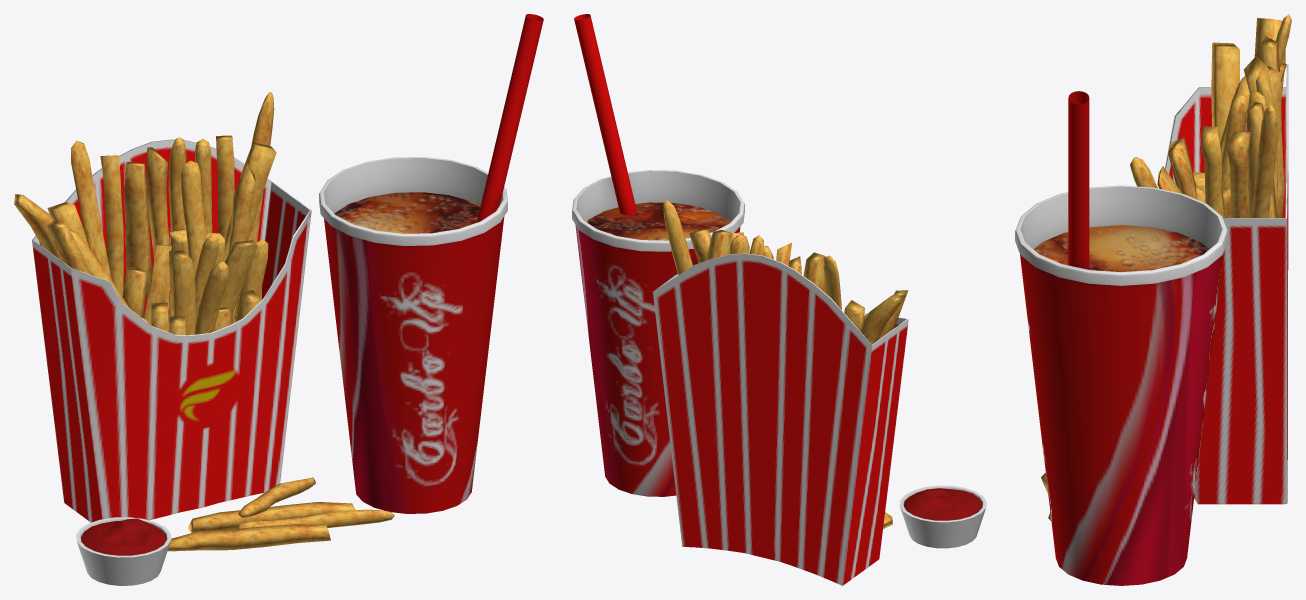
Rendered from french-fries---free-bef538.glb.
The picture shows the model from 3 angles, left to right: view 1: azimuth 30°, elevation 25°; view 2: azimuth 150°, elevation 25°; view 3: azimuth 270°, elevation 25°; orthographic projection. The views are drawn at different scales.
Visible parts, largest first — view 1: PropMesh; view 2: PropMesh; view 3: PropMesh.
Boxes of the visible parts, <box> form: PropMesh: <box>14,14,543,585</box>; PropMesh: <box>572,14,986,585</box>; PropMesh: <box>1015,14,1291,585</box>.
Size of the model in its own units: 0.2245 by 0.22 by 0.1063.
Materials: 1 (1 with a texture image).
